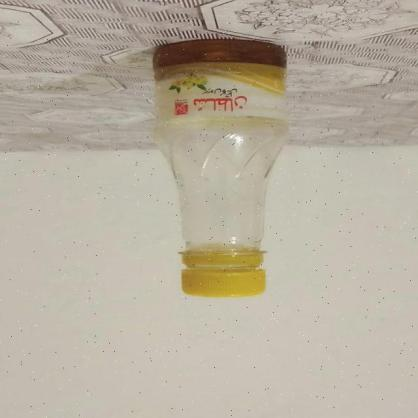bottle: (144, 34, 306, 305)
cap: (179, 244, 272, 299)
label: (159, 41, 292, 128)
